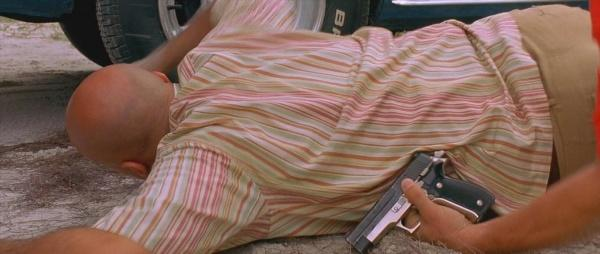Gun: (345, 154, 495, 254)
